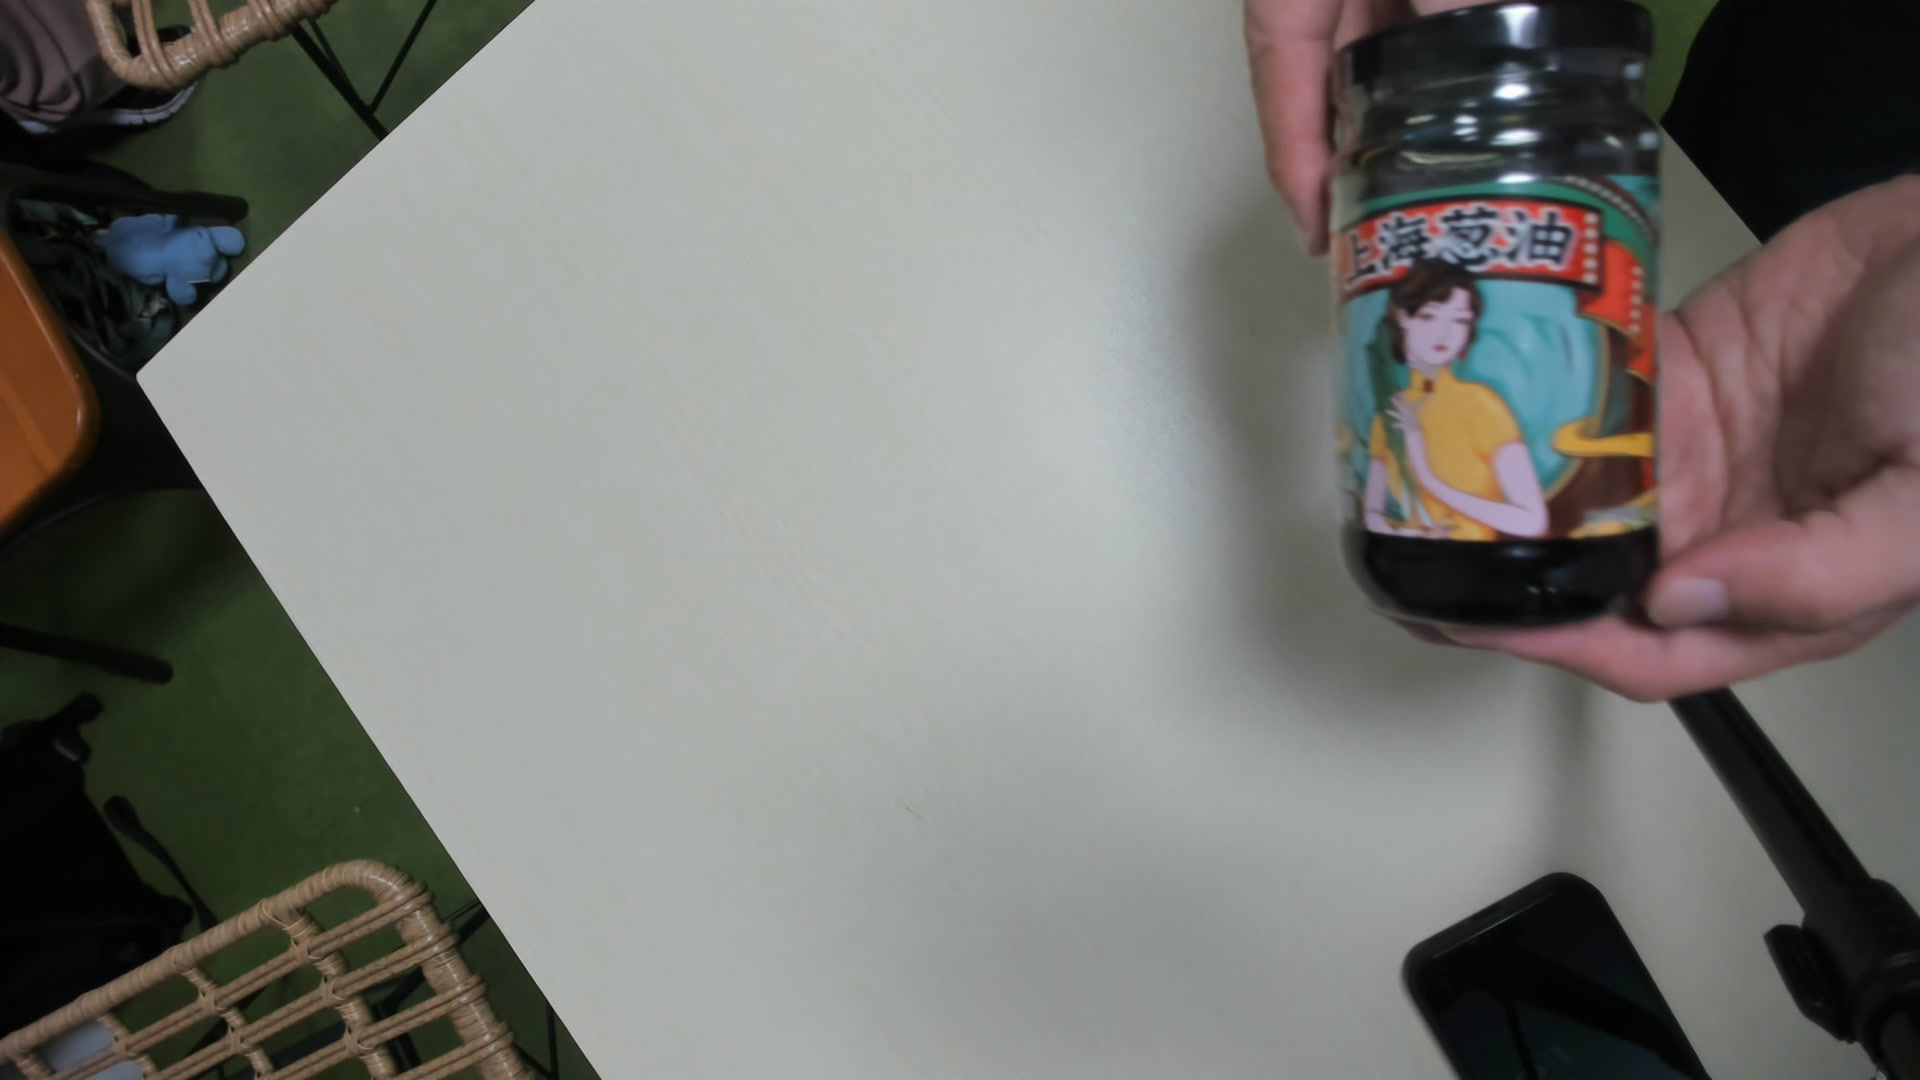OtherSauceDressing_200-299g_NonHalal_NonHealthy: (1333, 8, 1660, 632)
